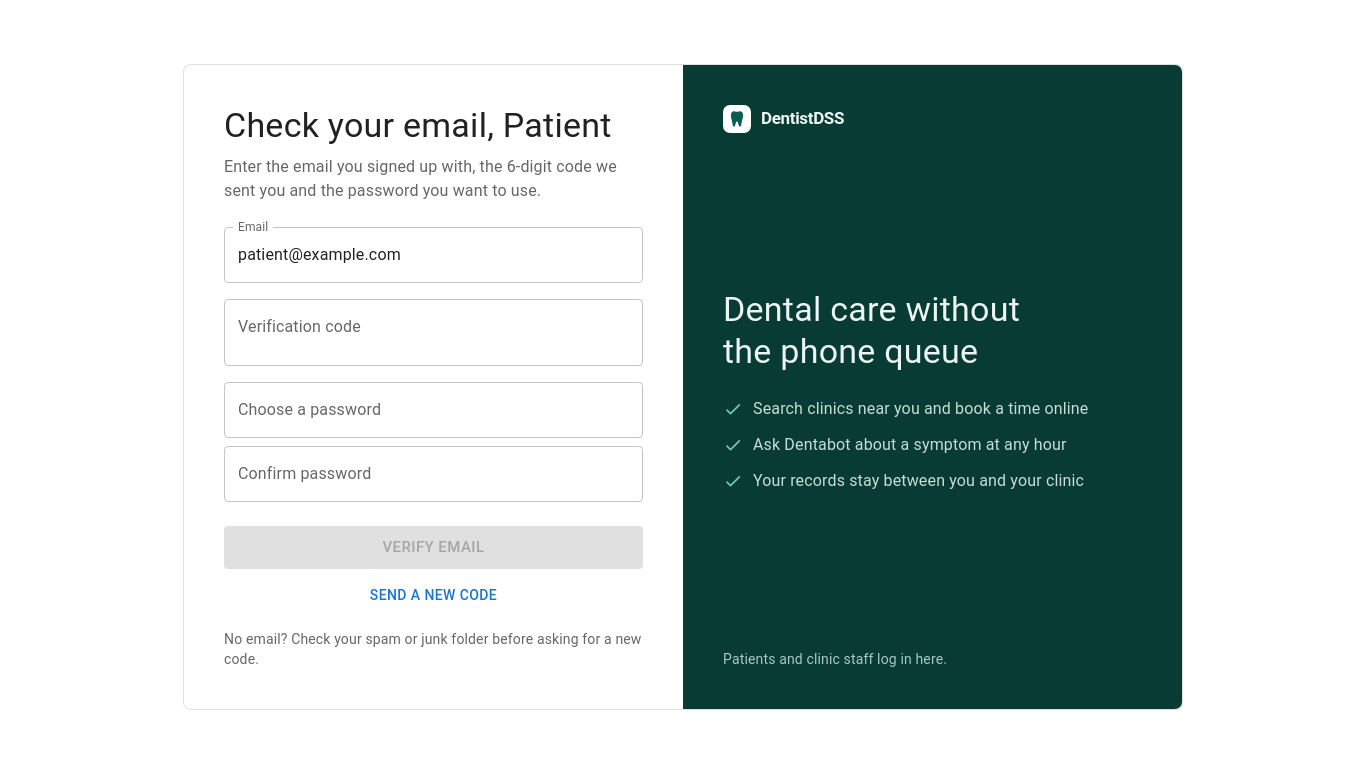
Test: email-code verification security contract › uses a truthful enumeration-safe message when resend returns no payload
This screenshot has width=1366, height=768.
Step 1. Click the button "Send a new code" → (434, 595), box 224,577 -> 643,613
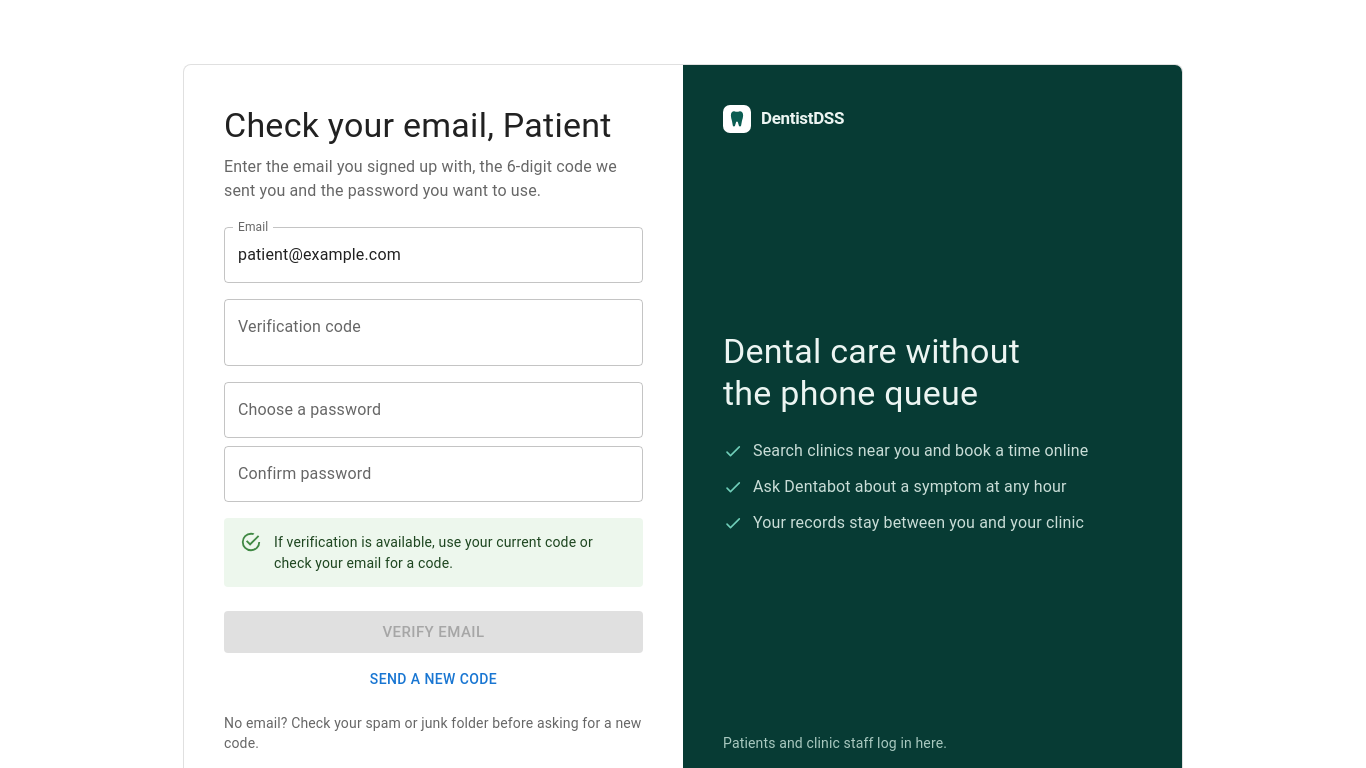
Expected: the text "If verification is available, use your current code or check your email for a code." is shown, 274,534 -> 593,570
